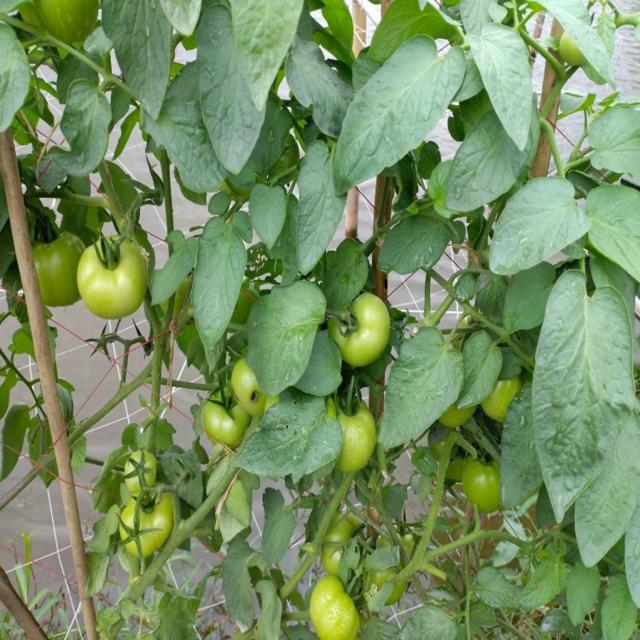tomato: (79, 229, 145, 314), (115, 498, 191, 563), (327, 290, 384, 372), (33, 222, 83, 296), (305, 578, 364, 640), (337, 385, 377, 471), (314, 511, 365, 577), (21, 1, 97, 41), (229, 349, 271, 416), (204, 386, 247, 443), (463, 465, 512, 515), (483, 376, 528, 429), (122, 450, 163, 489), (372, 563, 404, 606), (554, 36, 587, 65), (441, 407, 479, 431)
